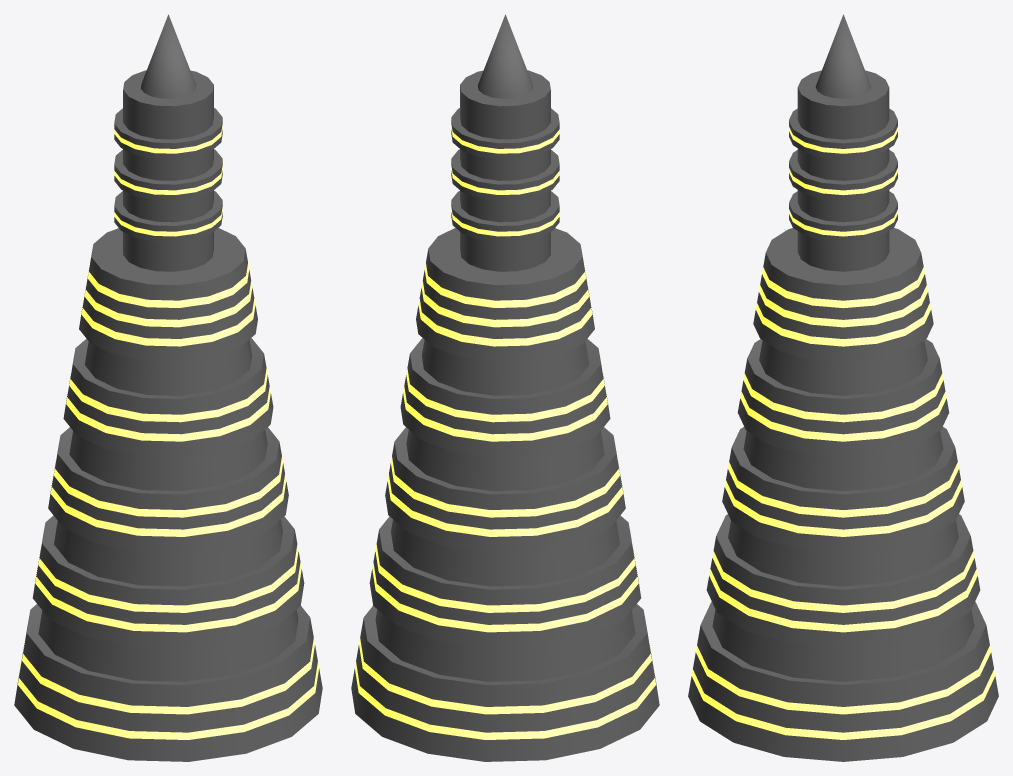
File: mesh_Rooftop_Background_Building_F.fbx
The picture shows the model from 3 angles, left to right: view 1: azimuth 30°, elevation 25°; view 2: azimuth 150°, elevation 25°; view 3: azimuth 270°, elevation 25°; orthographic projection.
Parts seen in each view (by area): view 1: mesh_Rooftop_Background_Building_F; view 2: mesh_Rooftop_Background_Building_F; view 3: mesh_Rooftop_Background_Building_F.
Part boxes in pixels (left/top/right/bottom): mesh_Rooftop_Background_Building_F: left=14, top=14, right=322, bottom=761; mesh_Rooftop_Background_Building_F: left=351, top=14, right=659, bottom=761; mesh_Rooftop_Background_Building_F: left=688, top=14, right=998, bottom=761.
Bounding box in the file's own units: 10.88 × 26.36 × 10.88.
